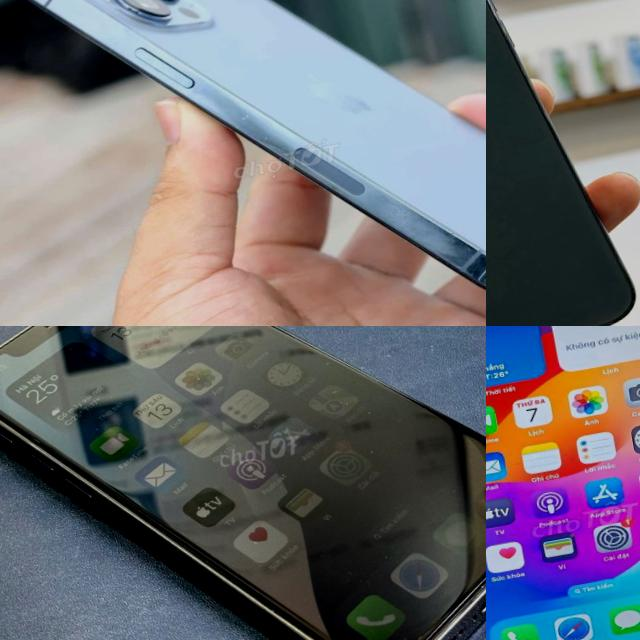gen_11: (486, 0, 640, 326), (486, 326, 640, 640)
gen_12_13: (6, 0, 486, 326), (0, 326, 486, 640)
